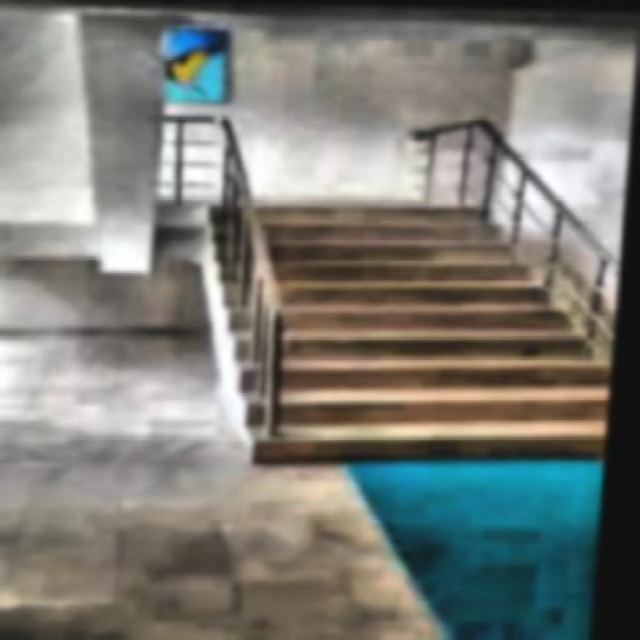stair: (185, 199, 626, 466)
